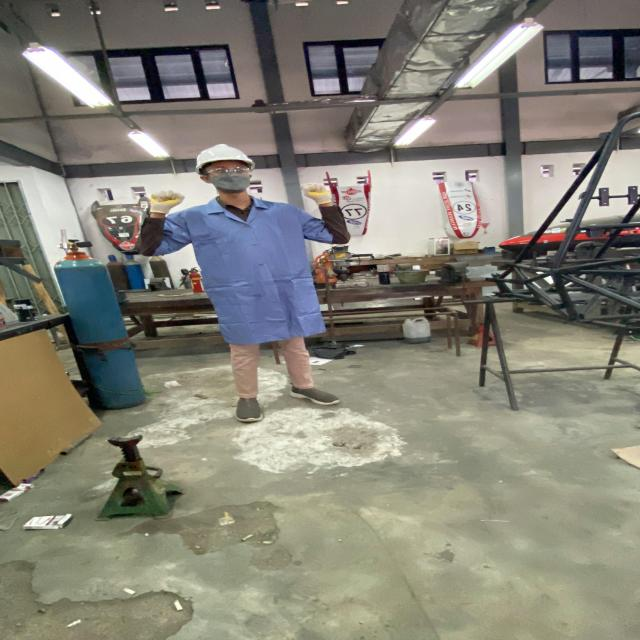face_mask: (204, 164, 256, 190)
glasses: (203, 165, 256, 177)
hand_glove: (141, 188, 189, 212), (296, 180, 342, 205)
head_helmet: (190, 142, 257, 170)
person: (130, 138, 358, 428)
shoes: (285, 381, 349, 409), (226, 394, 270, 424)
